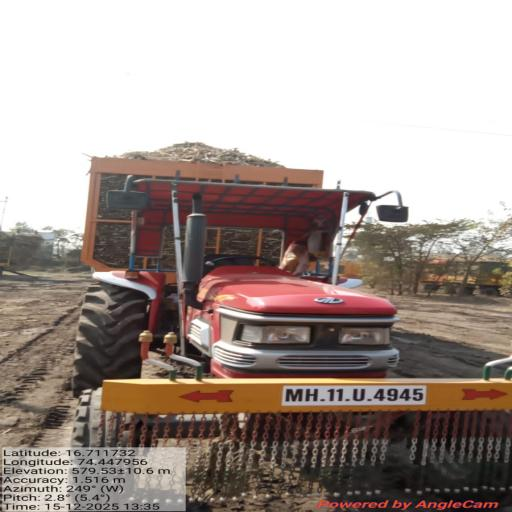number_plate: (277, 378, 441, 412)
